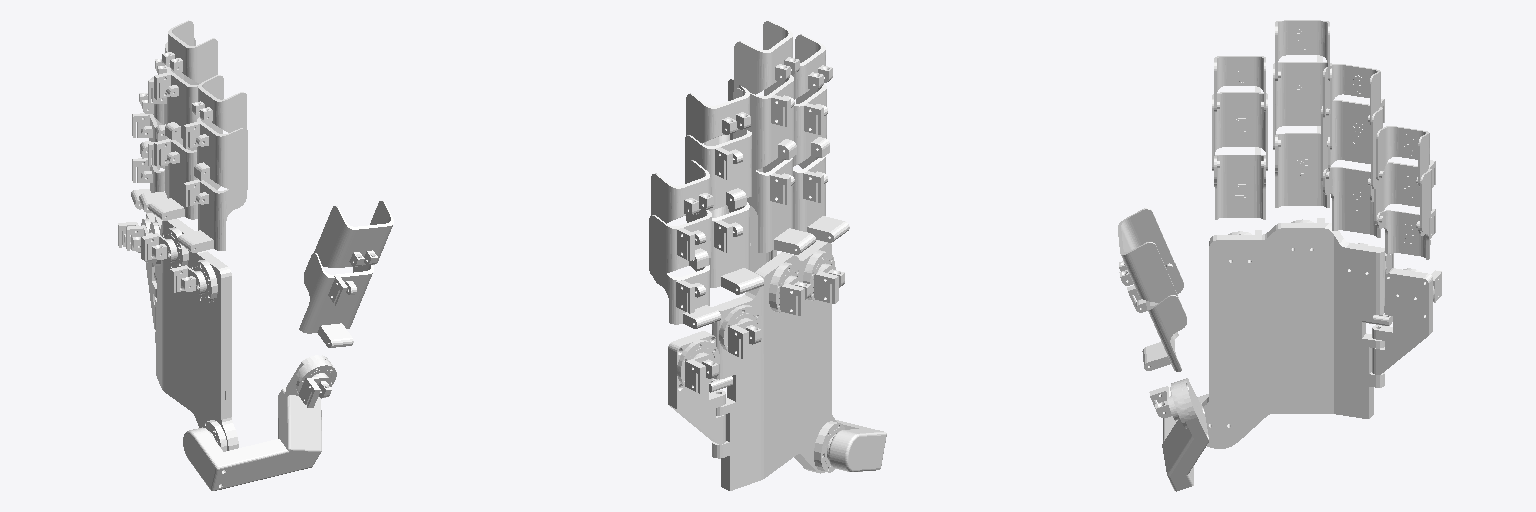
The robot description file, URDF, robot "data_glove_urdf_L":
<?xml version='1.0' encoding='utf-8'?>
<robot name="data_glove_urdf_L">
  <!-- 由 data_glove_urdf.urdf 沿 XZ 平面镜像（y 取反）；网格、质心及惯量同步镜像。关节轴按轴向量变换为 (-ax, ay, -az)，相同关节角得到镜像姿态；关节名保留。 -->
  <link name="wrist_link">
    <inertial>
      <origin xyz="-0.0020108 -0.0053871 0.035776" rpy="0 0 0" />
      <mass value="0.045574" />
      <inertia ixx="4.2078E-05" ixy="-1.0967E-06" ixz="-4.3696E-08" iyy="2.601E-05" iyz="-3.5448E-06" izz="1.6455E-05" />
    </inertial>
    <visual>
      <origin xyz="0 0 0" rpy="0 0 0" />
      <geometry>
        <mesh filename="package://data_glove_urdf_L/meshes/wrist_link.STL" />
      </geometry>
      <material name="">
        <color rgba="1 1 1 1" />
      </material>
    </visual>
    <collision>
      <origin xyz="0 0 0" rpy="0 0 0" />
      <geometry>
        <mesh filename="package://data_glove_urdf_L/meshes/wrist_link.STL" />
      </geometry>
    </collision>
  </link>
  <link name="thumb_cmc_flex_link">
    <inertial>
      <origin xyz="0.019427 -0.012082 0.0018389" rpy="0 0 0" />
      <mass value="0.019987" />
      <inertia ixx="1.7875E-06" ixy="-2.5694E-07" ixz="-1.2598E-06" iyy="5.1666E-06" iyz="-1.4999E-07" izz="3.8747E-06" />
    </inertial>
    <visual>
      <origin xyz="0 0 0" rpy="0 0 0" />
      <geometry>
        <mesh filename="package://data_glove_urdf_L/meshes/thumb_cmc_flex_link.STL" />
      </geometry>
      <material name="">
        <color rgba="1 1 1 1" />
      </material>
    </visual>
    <collision>
      <origin xyz="0 0 0" rpy="0 0 0" />
      <geometry>
        <mesh filename="package://data_glove_urdf_L/meshes/thumb_cmc_flex_link.STL" />
      </geometry>
    </collision>
  </link>
  <joint name="thumb_cmc_flex_joint" type="continuous">
    <origin xyz="-0.00800000000000013 -0.0321923881554251 -0.00500000000000006" rpy="0 0 0" />
    <parent link="wrist_link" />
    <child link="thumb_cmc_flex_link" />
    <axis xyz="1 0 0" />
  </joint>
  <link name="thumb_cmc_abd_link">
    <inertial>
      <origin xyz="-0.00229626864254114 -0.0025019741546171 -0.000436777539487287" rpy="0 0 0" />
      <mass value="0.00119117342000522" />
      <inertia ixx="1.42401930141673E-08" ixy="-4.20777982960054E-09" ixz="-3.32014267151954E-10" iyy="2.12316928109292E-08" iyz="1.13037574404821E-09" izz="2.15007903896514E-08" />
    </inertial>
    <visual>
      <origin xyz="0 0 0" rpy="0 0 0" />
      <geometry>
        <mesh filename="package://data_glove_urdf_L/meshes/thumb_cmc_abd_link.STL" />
      </geometry>
      <material name="">
        <color rgba="1 1 1 1" />
      </material>
    </visual>
    <collision>
      <origin xyz="0 0 0" rpy="0 0 0" />
      <geometry>
        <mesh filename="package://data_glove_urdf_L/meshes/thumb_cmc_abd_link.STL" />
      </geometry>
    </collision>
  </link>
  <joint name="thumb_cmc_abd_joint" type="continuous">
    <origin xyz="0.0420106042997699 -0.0157498161804066 0.0242675357151679" rpy="0 0 0" />
    <parent link="thumb_cmc_flex_link" />
    <child link="thumb_cmc_abd_link" />
    <axis xyz="0 0.93969262078591 0.342020143325665" />
  </joint>
  <link name="thumb_mcp_link">
    <inertial>
      <origin xyz="0.00248668828538748 -0.0161489445897399 0.0131327311111442" rpy="0 0 0" />
      <mass value="0.00374067384037843" />
      <inertia ixx="4.93107216011441E-07" ixy="-1.41032959420786E-08" ixz="-2.08858195114374E-08" iyy="6.48055630880886E-07" iyz="4.4873283054032E-08" izz="2.72402768253552E-07" />
    </inertial>
    <visual>
      <origin xyz="0 0 0" rpy="0 0 0" />
      <geometry>
        <mesh filename="package://data_glove_urdf_L/meshes/thumb_mcp_link.STL" />
      </geometry>
      <material name="">
        <color rgba="1 1 1 1" />
      </material>
    </visual>
    <collision>
      <origin xyz="0 0 0" rpy="0 0 0" />
      <geometry>
        <mesh filename="package://data_glove_urdf_L/meshes/thumb_mcp_link.STL" />
      </geometry>
    </collision>
  </link>
  <joint name="thumb_mcp_joint" type="continuous">
    <origin xyz="0.00325932819822321 0.00875597049638259 0.0241859413784691" rpy="0 0 0" />
    <parent link="thumb_cmc_abd_link" />
    <child link="thumb_mcp_link" />
    <axis xyz="0.986631617798999 0.0557377948750778 -0.153138332829486" />
  </joint>
  <link name="thumb_ip_link">
    <inertial>
      <origin xyz="0.00234022761204072 -0.0128632412496094 0.0104060094679635" rpy="0 0 0" />
      <mass value="0.00250986189310521" />
      <inertia ixx="1.71287853333995E-07" ixy="-3.86463495825574E-09" ixz="1.13425746546399E-08" iyy="3.01576893365904E-07" iyz="2.32760165724564E-08" izz="2.5083815876647E-07" />
    </inertial>
    <visual>
      <origin xyz="0 0 0" rpy="0 0 0" />
      <geometry>
        <mesh filename="package://data_glove_urdf_L/meshes/thumb_ip_link.STL" />
      </geometry>
      <material name="">
        <color rgba="1 1 1 1" />
      </material>
    </visual>
    <collision>
      <origin xyz="0 0 0" rpy="0 0 0" />
      <geometry>
        <mesh filename="package://data_glove_urdf_L/meshes/thumb_ip_link.STL" />
      </geometry>
    </collision>
  </link>
  <joint name="thumb_ip_joint" type="continuous">
    <origin xyz="0.00570382434689043 -0.0118106760565236 0.0324495657737923" rpy="0 0 0" />
    <parent link="thumb_mcp_link" />
    <child link="thumb_ip_link" />
    <axis xyz="0.986631617798999 0.0557377948750777 -0.153138332829486" />
  </joint>
  <link name="index_mcp_abd_link">
    <inertial>
      <origin xyz="-0.00250047285030029 0.00233813866466019 6.51214884913598E-05" rpy="0 0 0" />
      <mass value="0.00119117326877849" />
      <inertia ixx="2.19897616453943E-08" ixy="4.16840957665446E-09" ixz="2.76794130402293E-10" iyy="1.40504209973986E-08" iyz="-2.17568565356851E-11" izz="2.09324888735647E-08" />
    </inertial>
    <visual>
      <origin xyz="0 0 0" rpy="0 0 0" />
      <geometry>
        <mesh filename="package://data_glove_urdf_L/meshes/index_mcp_abd_link.STL" />
      </geometry>
      <material name="">
        <color rgba="1 1 1 1" />
      </material>
    </visual>
    <collision>
      <origin xyz="0 0 0" rpy="0 0 0" />
      <geometry>
        <mesh filename="package://data_glove_urdf_L/meshes/index_mcp_abd_link.STL" />
      </geometry>
    </collision>
  </link>
  <joint name="index_mcp_abd_joint" type="continuous">
    <origin xyz="-0.00800000000000009 -0.0241923881554252 0.065" rpy="0 0 0" />
    <parent link="wrist_link" />
    <child link="index_mcp_abd_link" />
    <axis xyz="1 0 0" />
  </joint>
  <link name="index_mcp_flex_link">
    <inertial>
      <origin xyz="-0.0114070328047424 0.000607370388683481 0.0290133395013445" rpy="0 0 0" />
      <mass value="0.00284655724061209" />
      <inertia ixx="3.28204843425552E-07" ixy="4.80669980678278E-09" ixz="-5.78407128131855E-08" iyy="2.84955983774339E-07" iyz="-1.57555232223385E-08" izz="1.51630121702924E-07" />
    </inertial>
    <visual>
      <origin xyz="0 0 0" rpy="0 0 0" />
      <geometry>
        <mesh filename="package://data_glove_urdf_L/meshes/index_mcp_flex_link.STL" />
      </geometry>
      <material name="">
        <color rgba="1 1 1 1" />
      </material>
    </visual>
    <collision>
      <origin xyz="0 0 0" rpy="0 0 0" />
      <geometry>
        <mesh filename="package://data_glove_urdf_L/meshes/index_mcp_flex_link.STL" />
      </geometry>
    </collision>
  </link>
  <joint name="index_mcp_flex_joint" type="continuous">
    <origin xyz="0.014 0 0" rpy="0 0 0" />
    <parent link="index_mcp_abd_link" />
    <child link="index_mcp_flex_link" />
    <axis xyz="0 -1 0" />
  </joint>
  <link name="index_pip_link">
    <inertial>
      <origin xyz="-0.00820059005677119 0.00062637497856944 0.0141171645574372" rpy="0 0 0" />
      <mass value="0.00272817140621968" />
      <inertia ixx="3.09947910621127E-07" ixy="1.02957359554329E-08" ixz="1.30297508003673E-08" iyy="2.10123925298428E-07" iyz="-1.11165431221713E-08" izz="2.1891706675412E-07" />
    </inertial>
    <visual>
      <origin xyz="0 0 0" rpy="0 0 0" />
      <geometry>
        <mesh filename="package://data_glove_urdf_L/meshes/index_pip_link.STL" />
      </geometry>
      <material name="">
        <color rgba="1 1 1 1" />
      </material>
    </visual>
    <collision>
      <origin xyz="0 0 0" rpy="0 0 0" />
      <geometry>
        <mesh filename="package://data_glove_urdf_L/meshes/index_pip_link.STL" />
      </geometry>
    </collision>
  </link>
  <joint name="index_pip_joint" type="continuous">
    <origin xyz="0 0 0.0439999999999998" rpy="0 0 0" />
    <parent link="index_mcp_flex_link" />
    <child link="index_pip_link" />
    <axis xyz="0 -1 0" />
  </joint>
  <link name="index_dip_link">
    <inertial>
      <origin xyz="-0.00772883281781931 7.81614501817532E-07 0.00944658781453485" rpy="0 0 0" />
      <mass value="0.00138621744308339" />
      <inertia ixx="9.65928060476362E-08" ixy="1.77160475460755E-12" ixz="2.14747997492926E-09" iyy="5.15724750020167E-08" iyz="-8.91862797053314E-13" izz="1.01767267555001E-07" />
    </inertial>
    <visual>
      <origin xyz="0 0 0" rpy="0 0 0" />
      <geometry>
        <mesh filename="package://data_glove_urdf_L/meshes/index_dip_link.STL" />
      </geometry>
      <material name="">
        <color rgba="1 1 1 1" />
      </material>
    </visual>
    <collision>
      <origin xyz="0 0 0" rpy="0 0 0" />
      <geometry>
        <mesh filename="package://data_glove_urdf_L/meshes/index_dip_link.STL" />
      </geometry>
    </collision>
  </link>
  <joint name="index_dip_joint" type="continuous">
    <origin xyz="0 0 0.025" rpy="0 0 0" />
    <parent link="index_pip_link" />
    <child link="index_dip_link" />
    <axis xyz="0 -1 0" />
  </joint>
  <link name="middle_mcp_abd_link">
    <inertial>
      <origin xyz="-0.00250047285018376 0.0023381386646602 6.51214885598259E-05" rpy="0 0 0" />
      <mass value="0.00119117326877849" />
      <inertia ixx="2.19897616453813E-08" ixy="4.16840957665499E-09" ixz="2.7679413042726E-10" iyy="1.40504209973987E-08" iyz="-2.17568564372661E-11" izz="2.09324888735778E-08" />
    </inertial>
    <visual>
      <origin xyz="0 0 0" rpy="0 0 0" />
      <geometry>
        <mesh filename="package://data_glove_urdf_L/meshes/middle_mcp_abd_link.STL" />
      </geometry>
      <material name="">
        <color rgba="1 1 1 1" />
      </material>
    </visual>
    <collision>
      <origin xyz="0 0 0" rpy="0 0 0" />
      <geometry>
        <mesh filename="package://data_glove_urdf_L/meshes/middle_mcp_abd_link.STL" />
      </geometry>
    </collision>
  </link>
  <joint name="middle_mcp_abd_joint" type="continuous">
    <origin xyz="-0.00799999999999999 -0.000192388155425213 0.07" rpy="0 0 0" />
    <parent link="wrist_link" />
    <child link="middle_mcp_abd_link" />
    <axis xyz="1 0 0" />
  </joint>
  <link name="middle_mcp_flex_link">
    <inertial>
      <origin xyz="-0.0110734509955478 0.000526306274228233 0.0311789260511265" rpy="0 0 0" />
      <mass value="0.00325556171697284" />
      <inertia ixx="4.75936416980801E-07" ixy="5.61616044482396E-09" ixz="-7.37987196767189E-08" iyy="4.10432511690092E-07" iyz="-1.86776487140322E-08" izz="1.92454987135351E-07" />
    </inertial>
    <visual>
      <origin xyz="0 0 0" rpy="0 0 0" />
      <geometry>
        <mesh filename="package://data_glove_urdf_L/meshes/middle_mcp_flex_link.STL" />
      </geometry>
      <material name="">
        <color rgba="1 1 1 1" />
      </material>
    </visual>
    <collision>
      <origin xyz="0 0 0" rpy="0 0 0" />
      <geometry>
        <mesh filename="package://data_glove_urdf_L/meshes/middle_mcp_flex_link.STL" />
      </geometry>
    </collision>
  </link>
  <joint name="middle_mcp_flex_joint" type="continuous">
    <origin xyz="0.0140000000001174 0 0" rpy="0 0 0" />
    <parent link="middle_mcp_abd_link" />
    <child link="middle_mcp_flex_link" />
    <axis xyz="0 -1 0" />
  </joint>
  <link name="middle_pip_link">
    <inertial>
      <origin xyz="-0.00822617379922164 0.000542285459422311 0.0161655057796501" rpy="0 0 0" />
      <mass value="0.00314497750486674" />
      <inertia ixx="4.38073313893312E-07" ixy="1.03755168315814E-08" ixz="1.65013994364525E-08" iyy="3.01976248682741E-07" iyz="-1.4337094440513E-08" izz="2.66532276625686E-07" />
    </inertial>
    <visual>
      <origin xyz="0 0 0" rpy="0 0 0" />
      <geometry>
        <mesh filename="package://data_glove_urdf_L/meshes/middle_pip_link.STL" />
      </geometry>
      <material name="">
        <color rgba="1 1 1 1" />
      </material>
    </visual>
    <collision>
      <origin xyz="0 0 0" rpy="0 0 0" />
      <geometry>
        <mesh filename="package://data_glove_urdf_L/meshes/middle_pip_link.STL" />
      </geometry>
    </collision>
  </link>
  <joint name="middle_pip_joint" type="continuous">
    <origin xyz="-0.000153153729170198 0 0.0479997556653703" rpy="0 0 0" />
    <parent link="middle_mcp_flex_link" />
    <child link="middle_pip_link" />
    <axis xyz="0 -1 0" />
  </joint>
  <link name="middle_dip_link">
    <inertial>
      <origin xyz="-0.00778740874902174 1.14449541866422E-06 0.0103317008808603" rpy="0 0 0" />
      <mass value="0.00158795100623238" />
      <inertia ixx="1.26589985299263E-07" ixy="2.46249384730863E-12" ixz="1.41064944236084E-09" iyy="6.53474068143681E-08" iyz="-2.96066082217762E-12" izz="1.23503557934076E-07" />
    </inertial>
    <visual>
      <origin xyz="0 0 0" rpy="0 0 0" />
      <geometry>
        <mesh filename="package://data_glove_urdf_L/meshes/middle_dip_link.STL" />
      </geometry>
      <material name="">
        <color rgba="1 1 1 1" />
      </material>
    </visual>
    <collision>
      <origin xyz="0 0 0" rpy="0 0 0" />
      <geometry>
        <mesh filename="package://data_glove_urdf_L/meshes/middle_dip_link.STL" />
      </geometry>
    </collision>
  </link>
  <joint name="middle_dip_joint" type="continuous">
    <origin xyz="-9.25303780403182E-05 0 0.0289998523811612" rpy="0 0 0" />
    <parent link="middle_pip_link" />
    <child link="middle_dip_link" />
    <axis xyz="0 -1 0" />
  </joint>
  <link name="ring_mcp_abd_link">
    <inertial>
      <origin xyz="-0.00154998547198234 0.00305234356989308 6.51213123810043E-05" rpy="0 0 0" />
      <mass value="0.00119117333663402" />
      <inertia ixx="2.37404379665959E-08" ixy="6.41531701695861E-10" ixz="2.52659449546094E-10" iyy="1.2299745324109E-08" iyz="-1.15114402431804E-10" izz="2.09324896594417E-08" />
    </inertial>
    <visual>
      <origin xyz="0 0 0" rpy="0 0 0" />
      <geometry>
        <mesh filename="package://data_glove_urdf_L/meshes/ring_mcp_abd_link.STL" />
      </geometry>
      <material name="">
        <color rgba="1 1 1 1" />
      </material>
    </visual>
    <collision>
      <origin xyz="0 0 0" rpy="0 0 0" />
      <geometry>
        <mesh filename="package://data_glove_urdf_L/meshes/ring_mcp_abd_link.STL" />
      </geometry>
    </collision>
  </link>
  <joint name="ring_mcp_abd_joint" type="continuous">
    <origin xyz="-0.00315764691224457 0.0235986790557135 0.062" rpy="0 0 0" />
    <parent link="wrist_link" />
    <child link="ring_mcp_abd_link" />
    <axis xyz="0.939692620785906 -0.342020143325674 0" />
  </joint>
  <link name="ring_mcp_flex_link">
    <inertial>
      <origin xyz="-0.0105115793432703 0.00447235460666146 0.02901224685332" rpy="0 0 0" />
      <mass value="0.00284615308470233" />
      <inertia ixx="3.26217944911901E-07" ixy="-1.02184783780063E-08" ixz="-5.97368930638282E-08" iyy="2.86907987896054E-07" iyz="4.97284107877626E-09" izz="1.51628480470892E-07" />
    </inertial>
    <visual>
      <origin xyz="0 0 0" rpy="0 0 0" />
      <geometry>
        <mesh filename="package://data_glove_urdf_L/meshes/ring_mcp_flex_link.STL" />
      </geometry>
      <material name="">
        <color rgba="1 1 1 1" />
      </material>
    </visual>
    <collision>
      <origin xyz="0 0 0" rpy="0 0 0" />
      <geometry>
        <mesh filename="package://data_glove_urdf_L/meshes/ring_mcp_flex_link.STL" />
      </geometry>
    </collision>
  </link>
  <joint name="ring_mcp_flex_joint" type="continuous">
    <origin xyz="0.0159747745533604 -0.00581434243653645 0" rpy="0 0 0" />
    <parent link="ring_mcp_abd_link" />
    <child link="ring_mcp_flex_link" />
    <axis xyz="-0.342020143325673 -0.939692620785907 0" />
  </joint>
  <link name="ring_pip_link">
    <inertial>
      <origin xyz="-0.00746932008628099 0.00334574665152387 0.0151534818610933" rpy="0 0 0" />
      <mass value="0.0029034063513932" />
      <inertia ixx="3.53401043194511E-07" ixy="-2.68791557922181E-08" ixz="9.23365002679006E-09" iyy="2.57096789957627E-07" iyz="-1.69396873978382E-08" izz="2.32694570423764E-07" />
    </inertial>
    <visual>
      <origin xyz="0 0 0" rpy="0 0 0" />
      <geometry>
        <mesh filename="package://data_glove_urdf_L/meshes/ring_pip_link.STL" />
      </geometry>
      <material name="">
        <color rgba="1 1 1 1" />
      </material>
    </visual>
    <collision>
      <origin xyz="0 0 0" rpy="0 0 0" />
      <geometry>
        <mesh filename="package://data_glove_urdf_L/meshes/ring_pip_link.STL" />
      </geometry>
    </collision>
  </link>
  <joint name="ring_pip_joint" type="continuous">
    <origin xyz="0 0 0.044" rpy="0 0 0" />
    <parent link="ring_mcp_flex_link" />
    <child link="ring_pip_link" />
    <axis xyz="-0.342020143325673 -0.939692620785907 0" />
  </joint>
  <link name="ring_dip_link">
    <inertial>
      <origin xyz="-0.00726193569823967 0.00264402659682362 0.0094444882658432" rpy="0 0 0" />
      <mass value="0.00138583353960473" />
      <inertia ixx="9.13152493786747E-08" ixy="-1.44690460584584E-08" ixz="2.01252391429793E-09" iyy="5.68239551627066E-08" iyz="-7.3370364423235E-10" izz="1.01766984589333E-07" />
    </inertial>
    <visual>
      <origin xyz="0 0 0" rpy="0 0 0" />
      <geometry>
        <mesh filename="package://data_glove_urdf_L/meshes/ring_dip_link.STL" />
      </geometry>
      <material name="">
        <color rgba="1 1 1 1" />
      </material>
    </visual>
    <collision>
      <origin xyz="0 0 0" rpy="0 0 0" />
      <geometry>
        <mesh filename="package://data_glove_urdf_L/meshes/ring_dip_link.STL" />
      </geometry>
    </collision>
  </link>
  <joint name="ring_dip_joint" type="continuous">
    <origin xyz="0 0 0.027" rpy="0 0 0" />
    <parent link="ring_pip_link" />
    <child link="ring_dip_link" />
    <axis xyz="-0.342020143325673 -0.939692620785907 0" />
  </joint>
  <link name="pinky_cmc_link">
    <inertial>
      <origin xyz="0.00336410686323215 0.0100056497442341 0.0251142466577473" rpy="0 0 0" />
      <mass value="0.00538890561683075" />
      <inertia ixx="7.10927556193362E-07" ixy="-5.34391219212694E-08" ixz="-1.5310429303977E-08" iyy="5.63078242811867E-07" iyz="-1.4281062651887E-07" izz="2.05433348559066E-07" />
    </inertial>
    <visual>
      <origin xyz="0 0 0" rpy="0 0 0" />
      <geometry>
        <mesh filename="package://data_glove_urdf_L/meshes/pinky_cmc_link.STL" />
      </geometry>
      <material name="">
        <color rgba="1 1 1 1" />
      </material>
    </visual>
    <collision>
      <origin xyz="0 0 0" rpy="0 0 0" />
      <geometry>
        <mesh filename="package://data_glove_urdf_L/meshes/pinky_cmc_link.STL" />
      </geometry>
    </collision>
  </link>
  <joint name="pinky_cmc_joint" type="continuous">
    <origin xyz="0.00363612095623456 0.0291072830666424 0.0193" rpy="0 0 0" />
    <parent link="wrist_link" />
    <child link="pinky_cmc_link" />
    <axis xyz="0 0 -1" />
  </joint>
  <link name="pinky_mcp_abd_link">
    <inertial>
      <origin xyz="-0.00154998547198234 0.0030523435698931 6.51213123810043E-05" rpy="0 0 0" />
      <mass value="0.00119117333663402" />
      <inertia ixx="2.37404379665959E-08" ixy="6.41531701695871E-10" ixz="2.52659449546099E-10" iyy="1.2299745324109E-08" iyz="-1.15114402431798E-10" izz="2.09324896594417E-08" />
    </inertial>
    <visual>
      <origin xyz="0 0 0" rpy="0 0 0" />
      <geometry>
        <mesh filename="package://data_glove_urdf_L/meshes/pinky_mcp_abd_link.STL" />
      </geometry>
      <material name="">
        <color rgba="1 1 1 1" />
      </material>
    </visual>
    <collision>
      <origin xyz="0 0 0" rpy="0 0 0" />
      <geometry>
        <mesh filename="package://data_glove_urdf_L/meshes/pinky_mcp_abd_link.STL" />
      </geometry>
    </collision>
  </link>
  <joint name="pinky_mcp_abd_joint" type="continuous">
    <origin xyz="1.24329837017426E-05 0.0131912791427107 0.0352" rpy="0 0 0" />
    <parent link="pinky_cmc_link" />
    <child link="pinky_mcp_abd_link" />
    <axis xyz="0.939692620785907 -0.342020143325672 0" />
  </joint>
  <link name="pink_mcp_flex_link">
    <inertial>
      <origin xyz="-0.0103753455329359 0.00477038421687151 0.0250068784616453" rpy="0 0 0" />
      <mass value="0.00193313136546952" />
      <inertia ixx="1.16298189932802E-07" ixy="-5.23319059136308E-09" ixz="-2.06242717495122E-08" iyy="8.89049123924794E-08" iyz="-3.9565285962366E-10" izz="8.10842547791097E-08" />
    </inertial>
    <visual>
      <origin xyz="0 0 0" rpy="0 0 0" />
      <geometry>
        <mesh filename="package://data_glove_urdf_L/meshes/pink_mcp_flex_link.STL" />
      </geometry>
      <material name="">
        <color rgba="1 1 1 1" />
      </material>
    </visual>
    <collision>
      <origin xyz="0 0 0" rpy="0 0 0" />
      <geometry>
        <mesh filename="package://data_glove_urdf_L/meshes/pink_mcp_flex_link.STL" />
      </geometry>
    </collision>
  </link>
  <joint name="pink_mcp_flex_joint" type="continuous">
    <origin xyz="0.0131556966910027 -0.00478828200655942 0" rpy="0 0 0" />
    <parent link="pinky_mcp_abd_link" />
    <child link="pink_mcp_flex_link" />
    <axis xyz="-0.342020143325673 -0.939692620785907 0" />
  </joint>
  <link name="pink_pip_link">
    <inertial>
      <origin xyz="-0.00750049500710275 0.00360184044077902 0.0109564939225916" rpy="0 0 0" />
      <mass value="0.0021246823554996" />
      <inertia ixx="1.67996754461158E-07" ixy="-8.51912087163331E-09" ixz="6.00229316982644E-09" iyy="1.15830637133994E-07" iyz="-8.96825805138717E-09" izz="1.53475257119411E-07" />
    </inertial>
    <visual>
      <origin xyz="0 0 0" rpy="0 0 0" />
      <geometry>
        <mesh filename="package://data_glove_urdf_L/meshes/pink_pip_link.STL" />
      </geometry>
      <material name="">
        <color rgba="1 1 1 1" />
      </material>
    </visual>
    <collision>
      <origin xyz="0 0 0" rpy="0 0 0" />
      <geometry>
        <mesh filename="package://data_glove_urdf_L/meshes/pink_pip_link.STL" />
      </geometry>
    </collision>
  </link>
  <joint name="pink_pip_joint" type="continuous">
    <origin xyz="0 0 0.035" rpy="0 0 0" />
    <parent link="pink_mcp_flex_link" />
    <child link="pink_pip_link" />
    <axis xyz="-0.342020143325673 -0.939692620785907 0" />
  </joint>
  <link name="pink_dip_link">
    <inertial>
      <origin xyz="-0.00715853004671411 0.00260635143158212 0.00940910615411399" rpy="0 0 0" />
      <mass value="0.0013280171732761" />
      <inertia ixx="7.68076668801599E-08" ixy="-9.5940255120806E-09" ixz="1.89254119442026E-09" iyy="5.39355546192163E-08" iyz="-6.87130026813664E-10" izz="8.58070220826519E-08" />
    </inertial>
    <visual>
      <origin xyz="0 0 0" rpy="0 0 0" />
      <geometry>
        <mesh filename="package://data_glove_urdf_L/meshes/pink_dip_link.STL" />
      </geometry>
      <material name="">
        <color rgba="1 1 1 1" />
      </material>
    </visual>
    <collision>
      <origin xyz="0 0 0" rpy="0 0 0" />
      <geometry>
        <mesh filename="package://data_glove_urdf_L/meshes/pink_dip_link.STL" />
      </geometry>
    </collision>
  </link>
  <joint name="pink_dip_joint" type="continuous">
    <origin xyz="0 0 0.019" rpy="0 0 0" />
    <parent link="pink_pip_link" />
    <child link="pink_dip_link" />
    <axis xyz="-0.342020143325673 -0.939692620785907 0" />
  </joint>
</robot>

--- Render facts (derived) ---
The picture shows the robot from 3 angles, left to right: view 1: azimuth 30°, elevation 25°; view 2: azimuth 150°, elevation 25°; view 3: azimuth 270°, elevation 25°; orthographic projection.
Model data_glove_urdf_L with 22 links and 21 joints (21 continuous), rooted at wrist_link, posed every joint at zero.
Visible links, largest first — view 1: wrist_link, thumb_cmc_flex_link, thumb_mcp_link, index_pip_link, thumb_ip_link, index_mcp_flex_link, middle_mcp_flex_link, middle_dip_link, index_dip_link, middle_pip_link, pink_mcp_flex_link, index_mcp_abd_link (+5 smaller); view 2: wrist_link, middle_mcp_flex_link, pinky_cmc_link, middle_pip_link, ring_pip_link, ring_mcp_flex_link, pink_pip_link, middle_dip_link, index_mcp_flex_link, pink_mcp_flex_link, pink_dip_link, ring_dip_link (+8 smaller); view 3: wrist_link, pinky_cmc_link, thumb_ip_link, middle_mcp_flex_link, thumb_cmc_flex_link, ring_pip_link, middle_pip_link, index_mcp_flex_link, index_pip_link, ring_mcp_flex_link, thumb_mcp_link, pink_pip_link (+6 smaller).
Boxes of the visible links, x1,y1,x2,y2 form: wrist_link: (149, 215, 238, 451); thumb_cmc_flex_link: (183, 355, 336, 490); thumb_mcp_link: (299, 253, 373, 347); index_pip_link: (183, 117, 247, 193); thumb_ip_link: (314, 201, 393, 267); index_mcp_flex_link: (177, 179, 246, 252); middle_mcp_flex_link: (148, 138, 197, 220); middle_dip_link: (162, 20, 217, 83); index_dip_link: (192, 75, 246, 132); middle_pip_link: (154, 67, 198, 139); pink_mcp_flex_link: (131, 158, 164, 209); index_mcp_abd_link: (170, 265, 206, 295); wrist_link: (709, 240, 844, 490); middle_mcp_flex_link: (747, 158, 815, 254); pinky_cmc_link: (668, 331, 725, 444); middle_pip_link: (733, 75, 796, 171); ring_pip_link: (685, 130, 751, 217); ring_mcp_flex_link: (686, 202, 763, 294); pink_pip_link: (649, 210, 711, 277); middle_dip_link: (734, 21, 799, 94); index_mcp_flex_link: (793, 156, 849, 242); pink_mcp_flex_link: (653, 265, 720, 328); pink_dip_link: (651, 160, 713, 223); ring_dip_link: (686, 79, 750, 143); wrist_link: (1202, 219, 1392, 448); pinky_cmc_link: (1372, 268, 1434, 374); thumb_ip_link: (1118, 208, 1178, 302); middle_mcp_flex_link: (1275, 126, 1329, 207); thumb_cmc_flex_link: (1162, 378, 1208, 491); ring_pip_link: (1321, 99, 1384, 188); middle_pip_link: (1273, 55, 1331, 149); index_mcp_flex_link: (1214, 147, 1265, 219); index_pip_link: (1212, 86, 1267, 170); ring_mcp_flex_link: (1323, 167, 1380, 237); thumb_mcp_link: (1127, 263, 1186, 371); pink_pip_link: (1374, 160, 1435, 231).
Bounding box of the posed robot: 0.0773 × 0.1251 × 0.186 m (x, y, z).
Meshes: 22 distinct files referenced, 22 mesh visuals loaded (22 binary STL).
